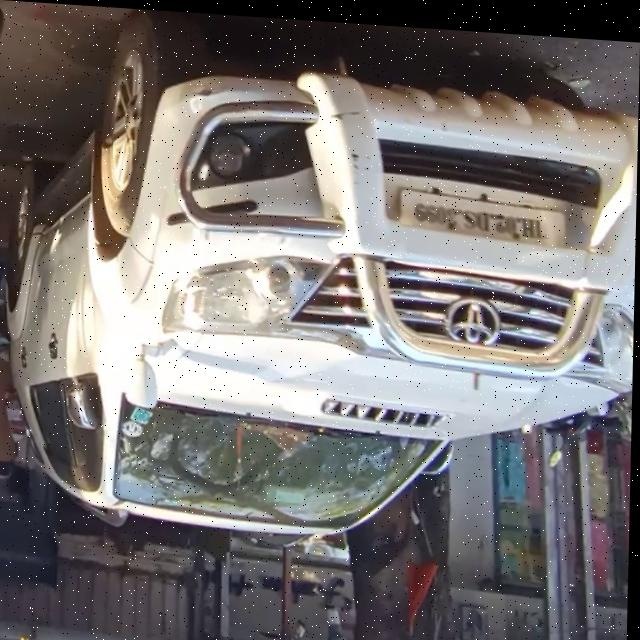plate: (397, 182, 569, 242)
